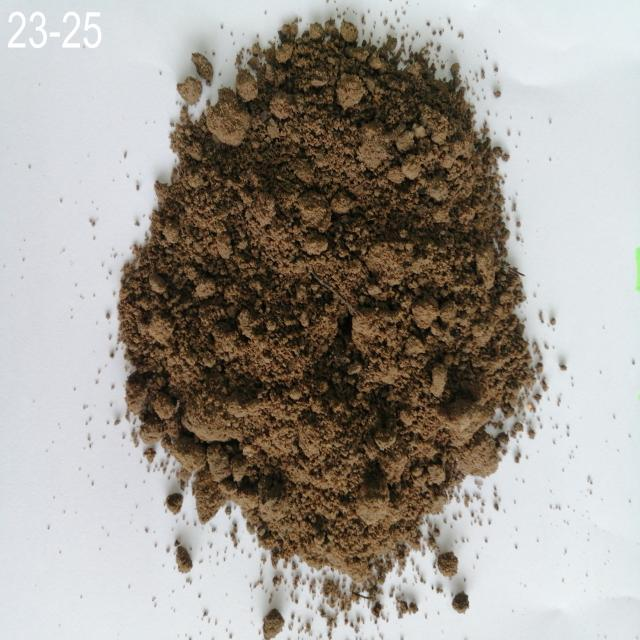soil: (188, 118, 466, 507)
